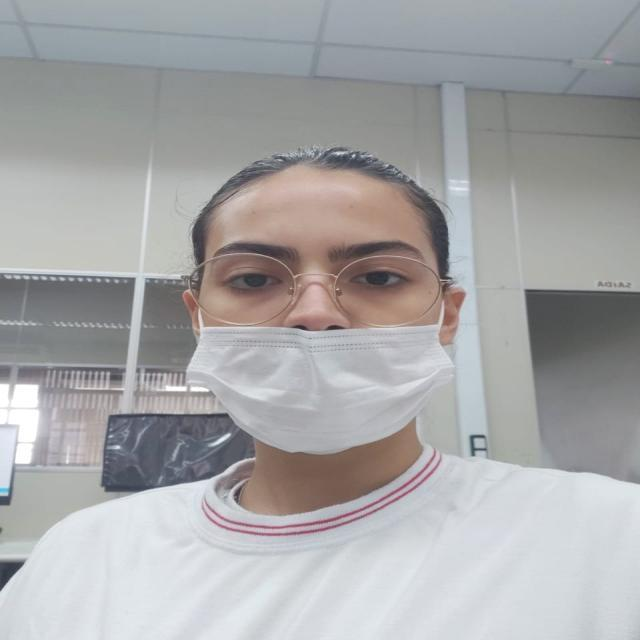hairnet: (165, 142, 472, 462)
